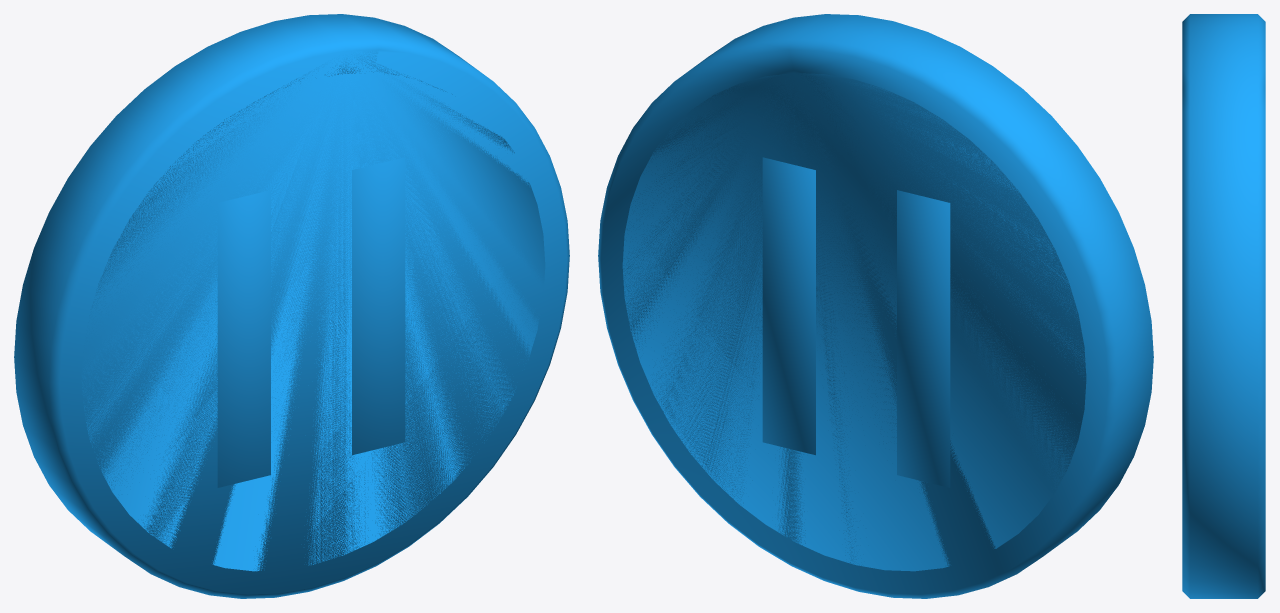
Rendered from TimeTravel.fbx.
3 views of the same model, side by side, from view 1: azimuth 30°, elevation 25°; view 2: azimuth 150°, elevation 25°; view 3: azimuth 270°, elevation 25° (orthographic). The views are drawn at different scales.
Visible parts, largest first — view 1: Polygonal_Geometry; view 2: Polygonal_Geometry; view 3: Polygonal_Geometry.
Part boxes in pixels (x1,y1,x2,y2): Polygonal_Geometry: (14, 14, 569, 598); Polygonal_Geometry: (598, 14, 1153, 598); Polygonal_Geometry: (1182, 14, 1265, 598).
Bounding box in the file's own units: 3.3 × 3.3 × 0.4712.
